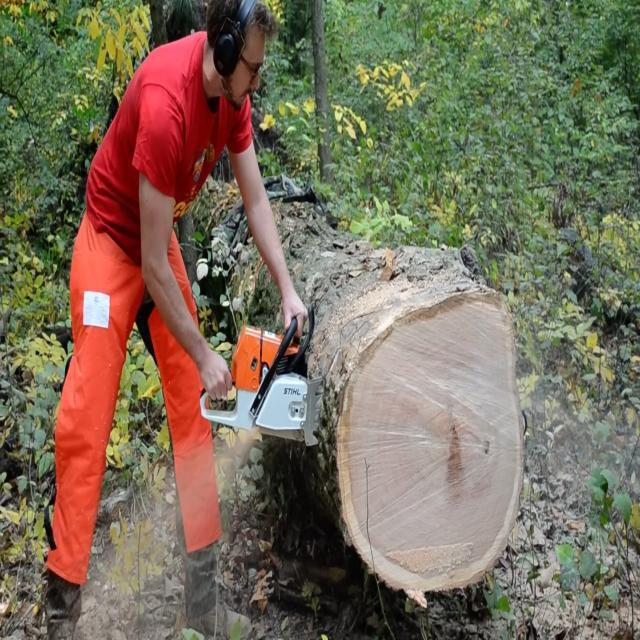Chainsaw: (183, 311, 537, 501)
